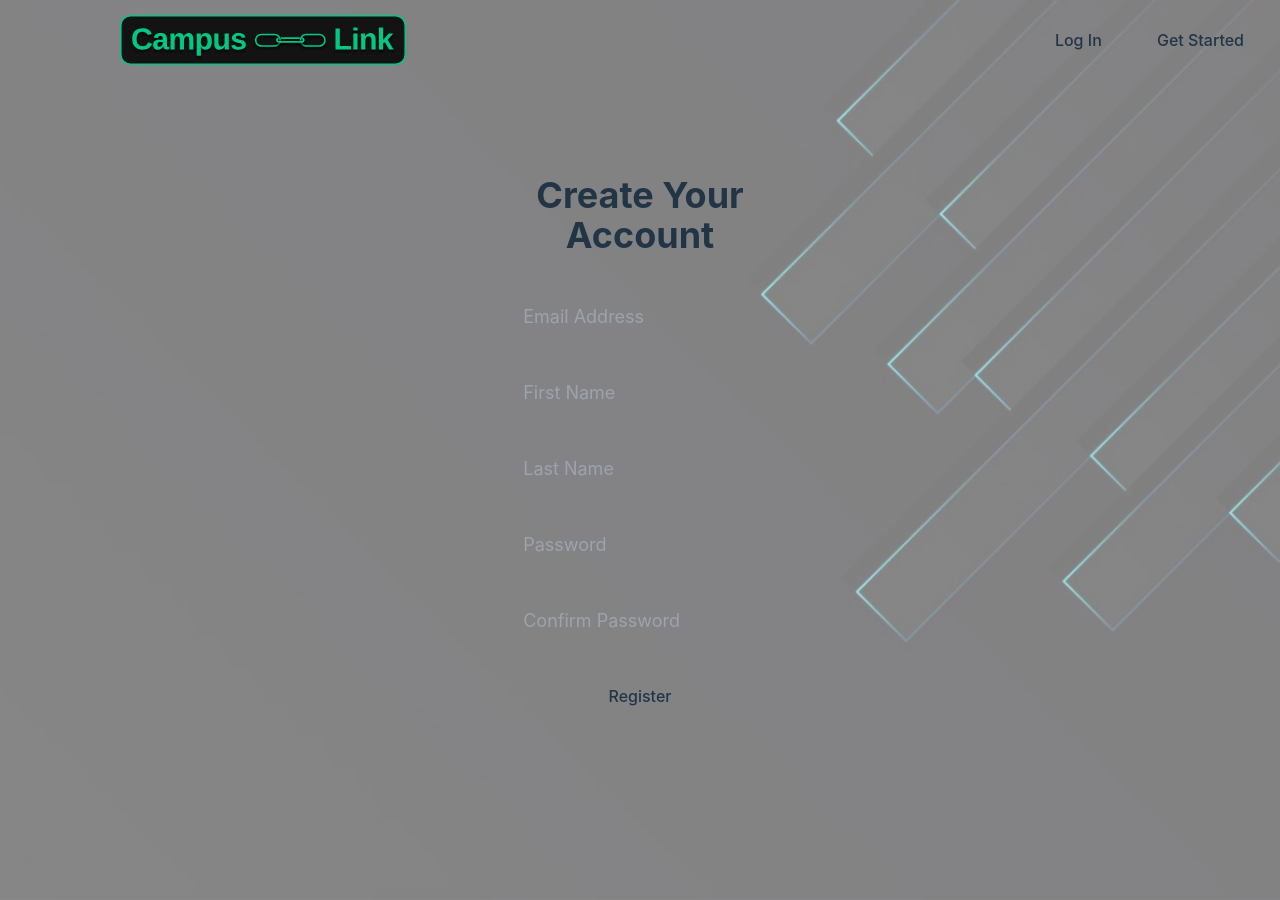
Test: Register Page UI Tests › shows error message when passwords do not match
Type "TestPass123" into the password field with placeholder "Password" at (640, 545), box [507,515,773,575]
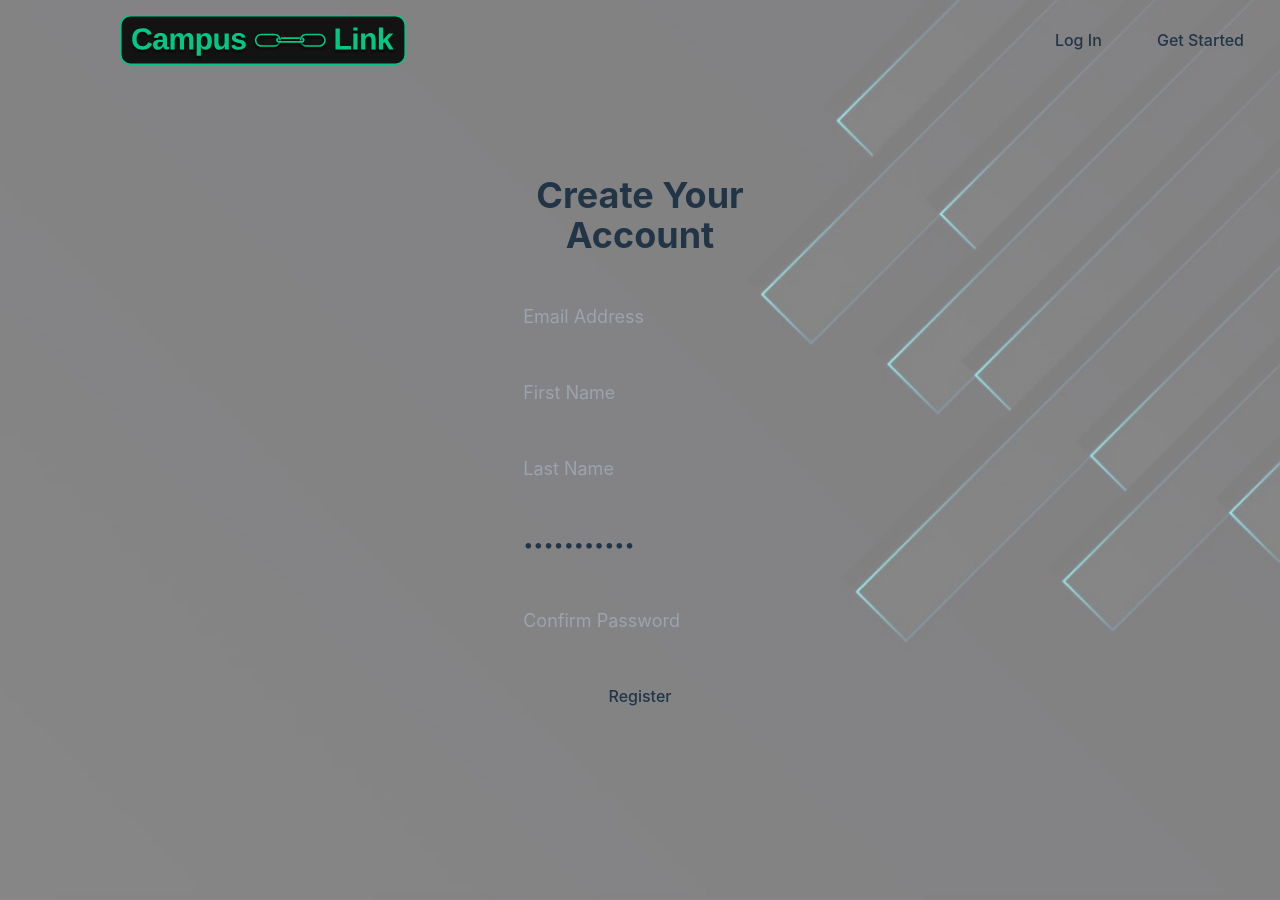
Type "Mismatch123" into the password field with placeholder "Confirm Password" at (640, 621), box [507,591,773,651]
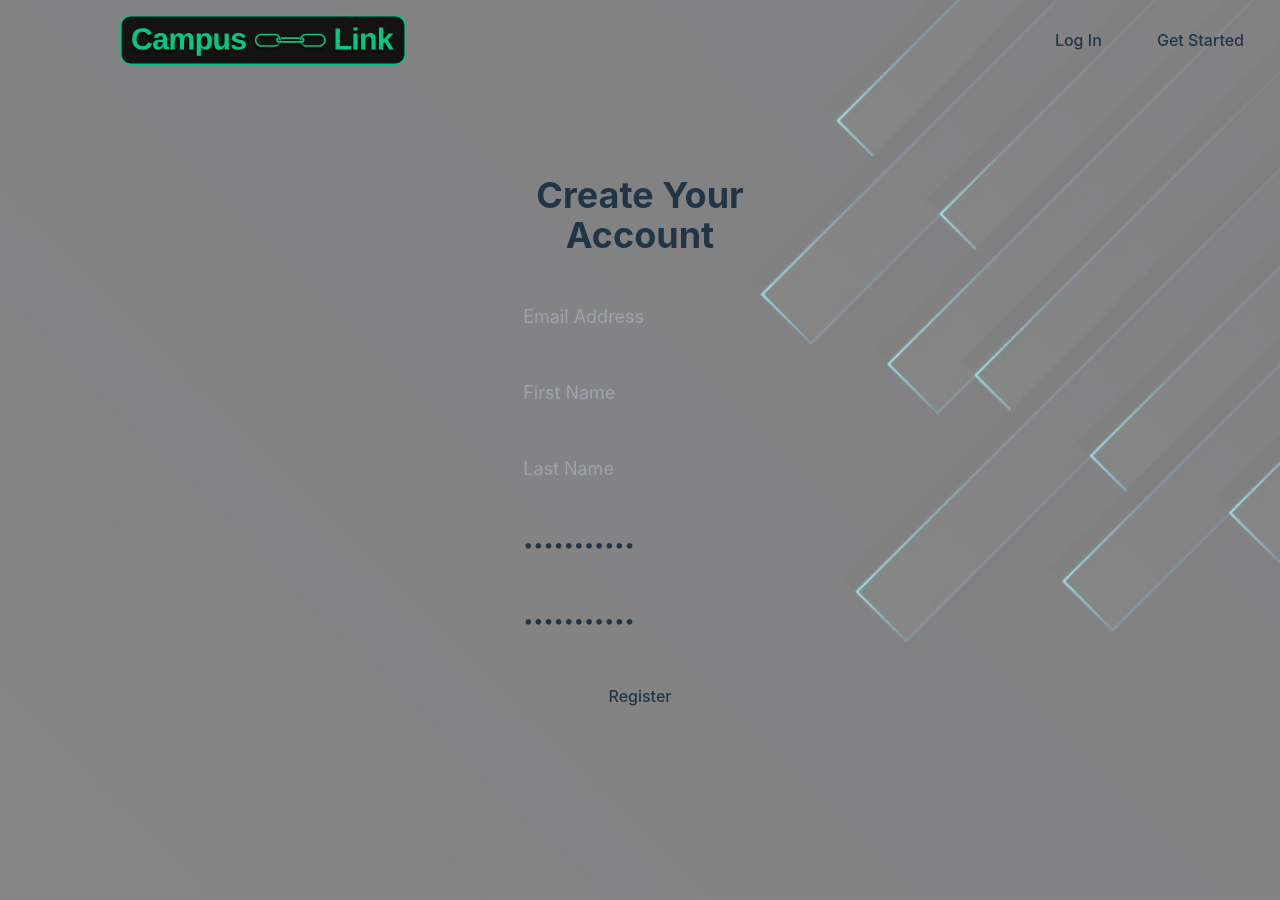
Click the button "Register" at (640, 696), box [507,667,773,725]
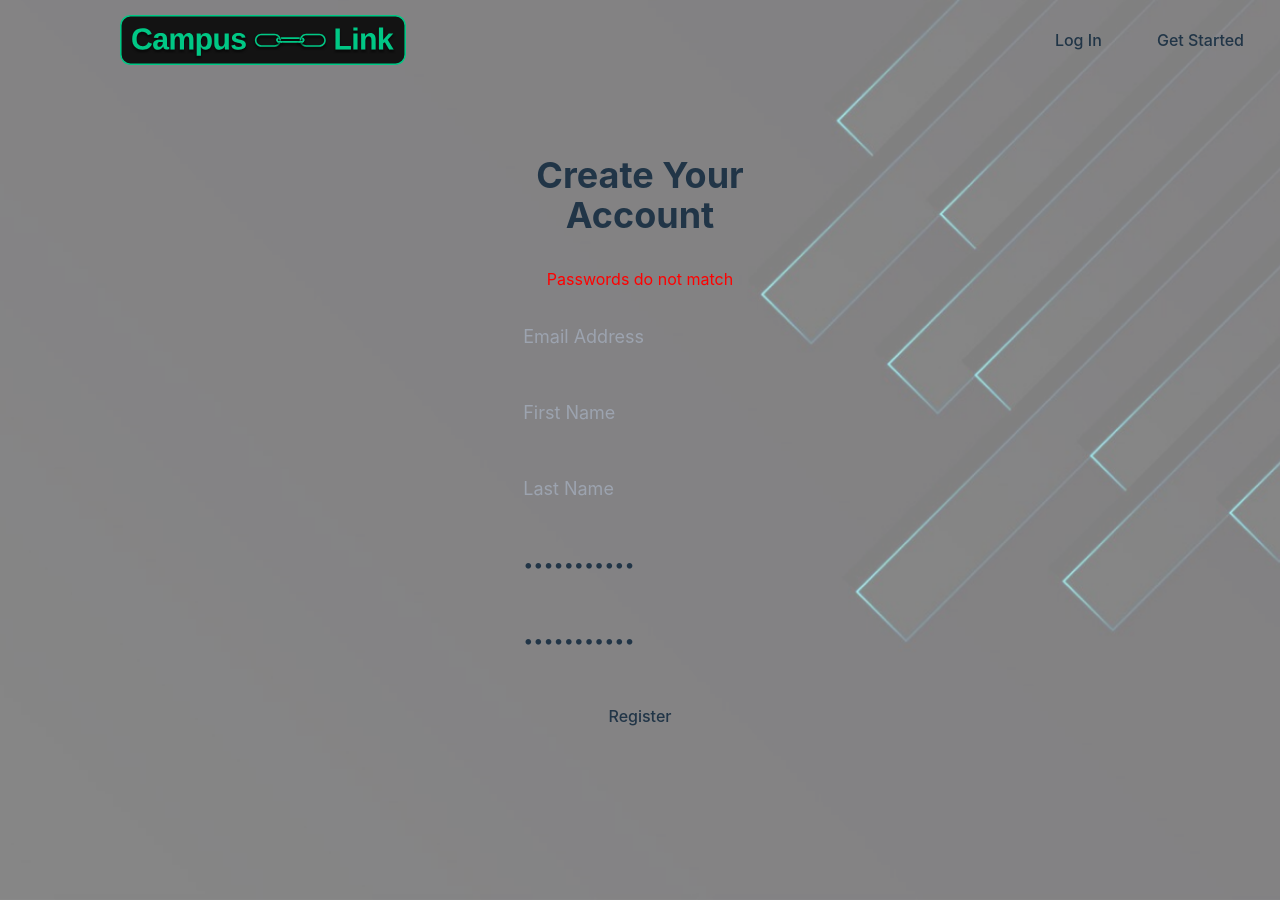
Check: the text "Passwords do not match" is shown, box [547,267,733,291]
